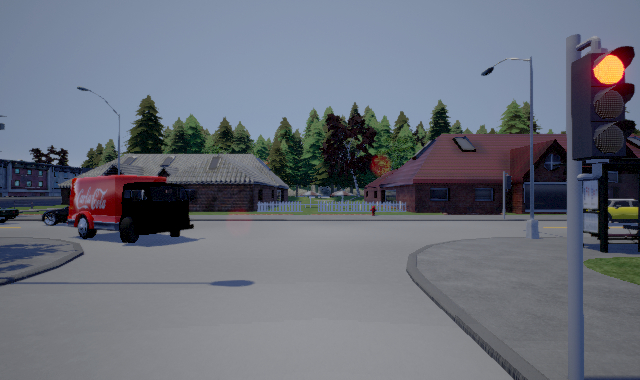traffic_light: (571, 44, 636, 160)
vehicle: (65, 175, 194, 243), (608, 199, 638, 223)
